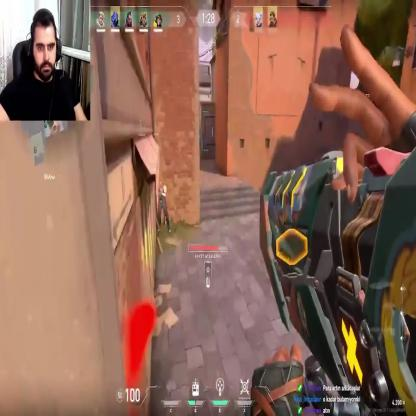enemy: (156, 178, 172, 235)
enemy_head: (158, 180, 163, 190)
